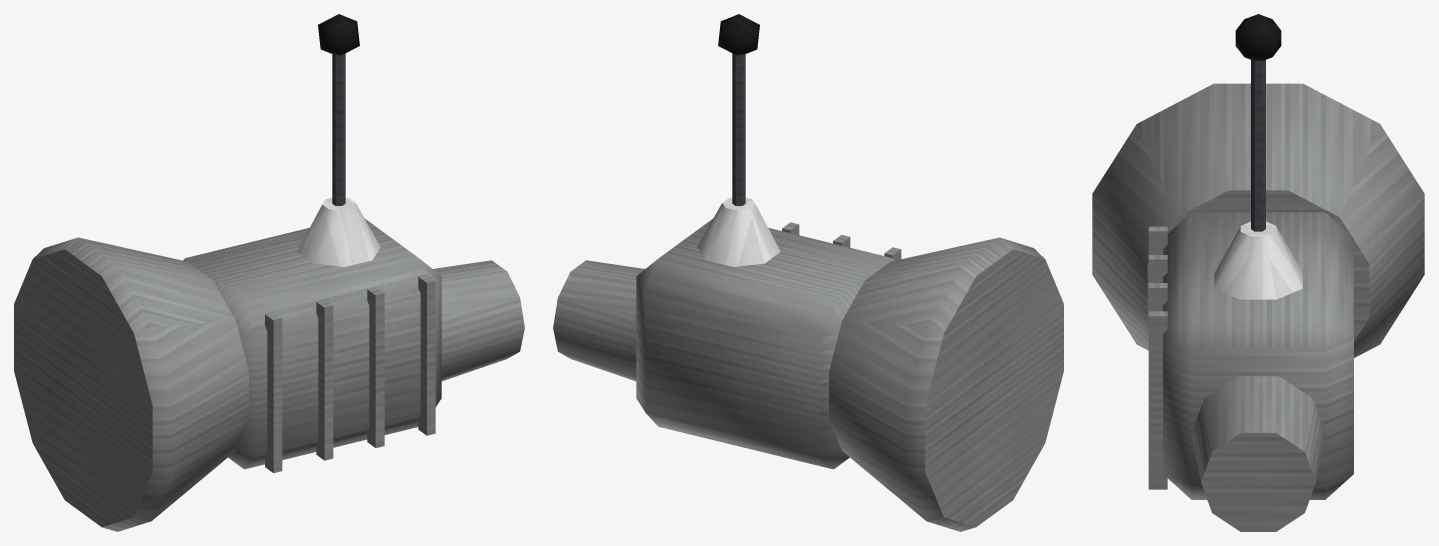
The model's file is cambio_fabrica.glb.
3 renders of one model, left to right at view 1: azimuth 30°, elevation 25°; view 2: azimuth 150°, elevation 25°; view 3: azimuth 270°, elevation 25°, orthographic. The views are drawn at different scales.
Parts seen in each view (by area): view 1: cambio_fabrica; view 2: cambio_fabrica; view 3: cambio_fabrica.
Part boxes in pixels (x1=…): cambio_fabrica: x1=14, y1=14, x2=524, y2=531; cambio_fabrica: x1=553, y1=14, x2=1063, y2=531; cambio_fabrica: x1=1092, y1=14, x2=1424, y2=531.
Size of the model in its own units: 0.57 by 0.5819 by 0.3477.
2 materials, 2 textured.
